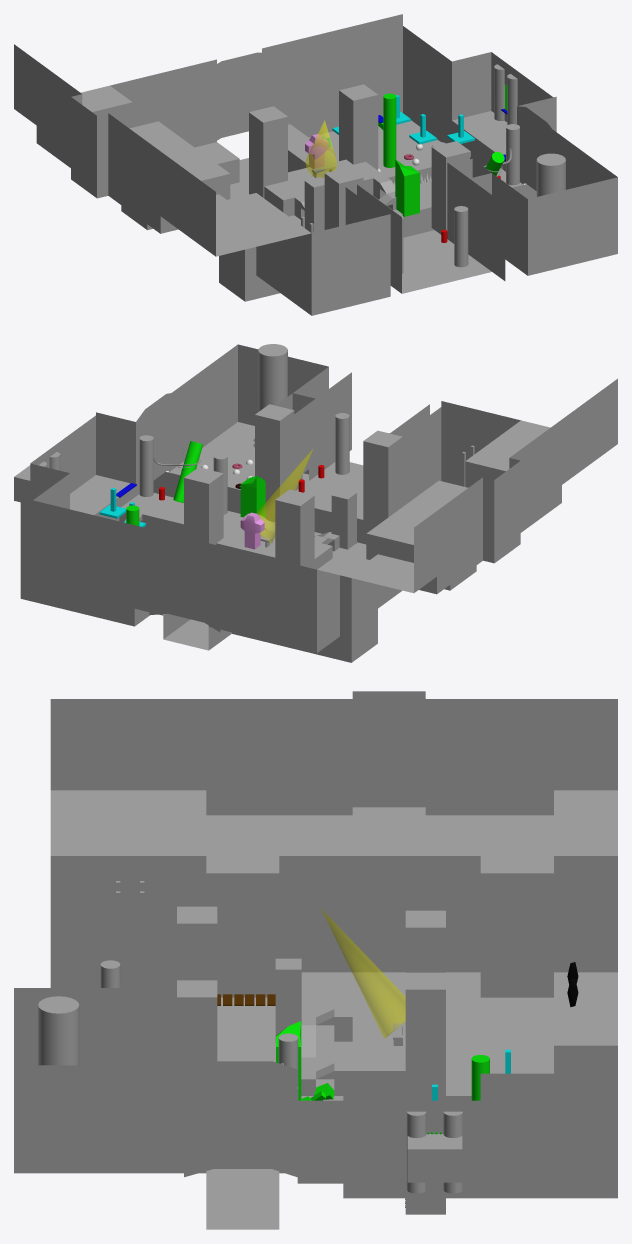
File: Greybox_3_9_2020.fbx
3 renders of one model, top to bottom at view 1: azimuth 30°, elevation 25°; view 2: azimuth 150°, elevation 25°; view 3: azimuth 270°, elevation 25°, orthographic. The views are drawn at different scales.
Visible parts, largest first — view 1: polySurface2, polySurface3, Fire_Potion_Room, StreamAlcove1, Pillar1, Pillar, StreamAlcove, Pillar3, Tree (×2), Pillar4, BrokenPillar, GodRay (+6 smaller); view 2: polySurface2, polySurface3, StreamAlcove1, StreamAlcove, Fire_Potion_Room, Pillar4, Pillar3, Pillar, Pillar1, Tree, Pillar2, GodRay (+6 smaller); view 3: polySurface2, polySurface3, Fire_Potion_Room, StreamAlcove, Pillar, Tree (×2), Pillar3, GodRay, Pillar4, Pillar1, Pillar2, Tree1.
Part boxes in pixels (x1,y1,x2,y2): polySurface2: (36,14,617,301); polySurface3: (14,44,390,315); Fire_Potion_Room: (264,159,491,293); StreamAlcove1: (205,52,275,144); Pillar1: (249,106,287,198); Pillar: (339,84,378,170); StreamAlcove: (517,96,557,190); Pillar3: (431,141,470,234); Tree (×2): (507,74,565,196); Pillar4: (324,167,363,229); BrokenPillar: (395,159,419,216); GodRay: (305,120,336,177); polySurface2: (14,344,561,662); polySurface3: (314,378,617,602); StreamAlcove1: (149,536,220,632); StreamAlcove: (96,392,176,495); Fire_Potion_Room: (216,404,429,562); Pillar4: (363,430,402,525); Pillar3: (255,404,294,501); Pillar: (184,467,223,547); Pillar1: (275,489,314,568); Tree: (258,344,287,411); Pillar2: (331,488,356,549); GodRay: (256,449,312,543); polySurface2: (14,790,617,1229); polySurface3: (50,691,617,1033); Fire_Potion_Room: (50,926,405,1095); StreamAlcove: (184,1061,297,1177); Pillar: (405,972,445,1100); Tree (×2): (38,996,426,1193); Pillar3: (177,980,217,1065); GodRay: (321,908,405,1038); Pillar4: (177,906,217,980); Pillar1: (405,910,445,972); Pillar2: (275,958,301,1042); Tree1: (443,1111,462,1193).
Bounding box in the file's own units: 8200 × 3000 × 6600.
